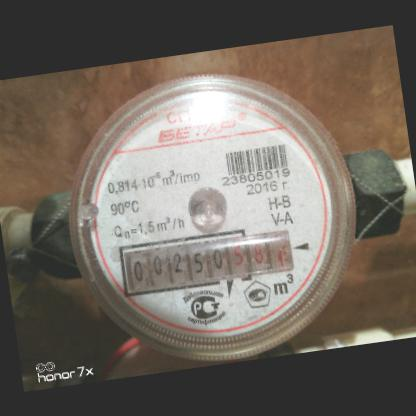digital_screen: (115, 228, 236, 298)
